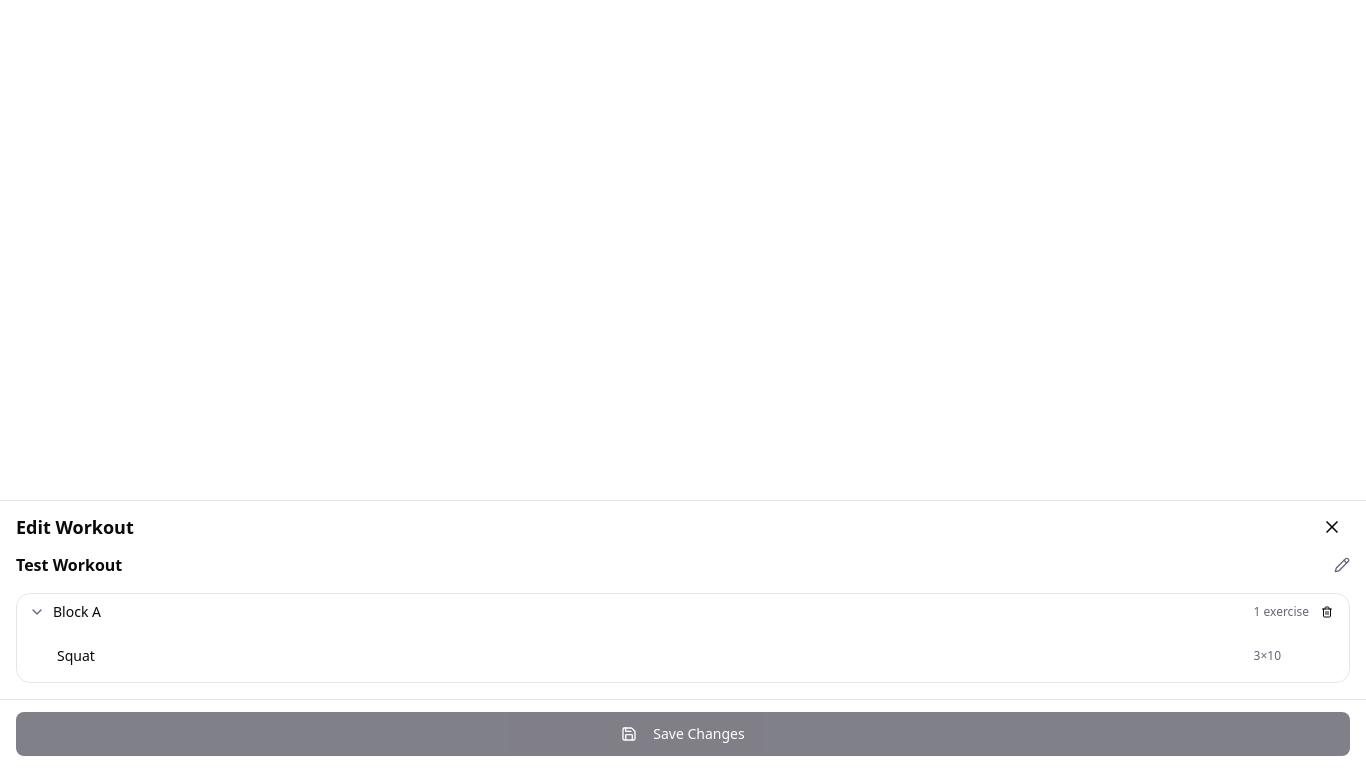
Test: WorkoutEditSheet › shows conflict banner on 409
Step 1. Click the button named "Rename workout" → [1342, 565], box [1334, 557, 1350, 573]
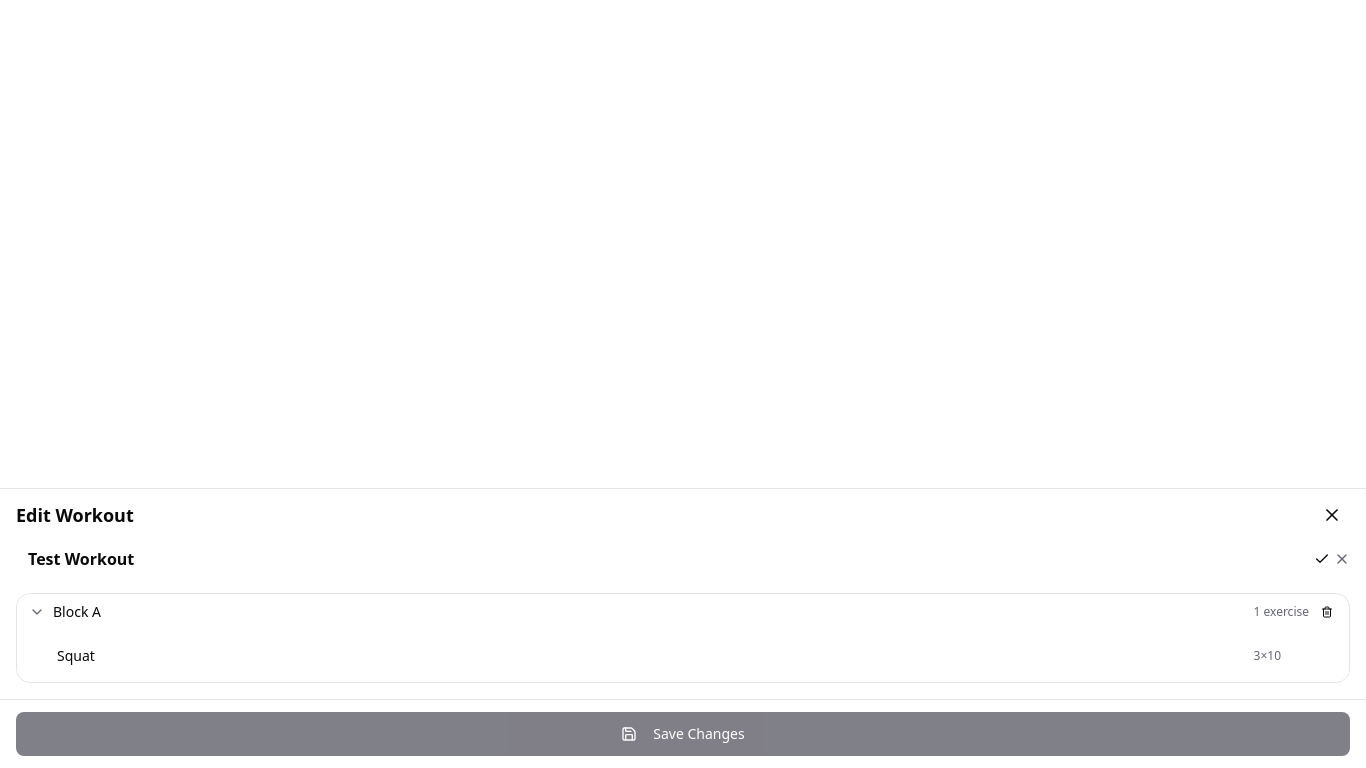
Step 2. Replace the text in the field showing "Test Workout" with "New Name" → [663, 559], box [16, 541, 1310, 577]
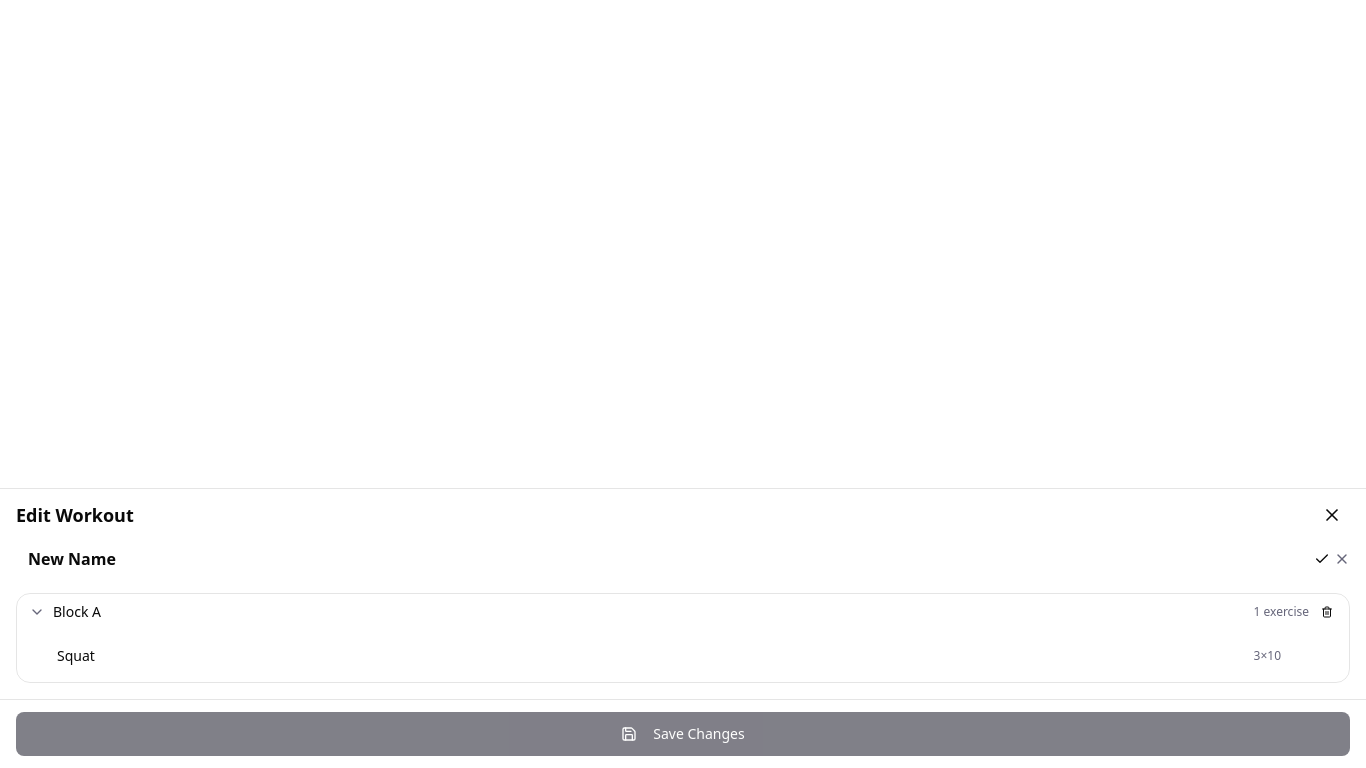
Step 3. Press Enter in the field showing "Test Workout", box [16, 541, 1310, 577]
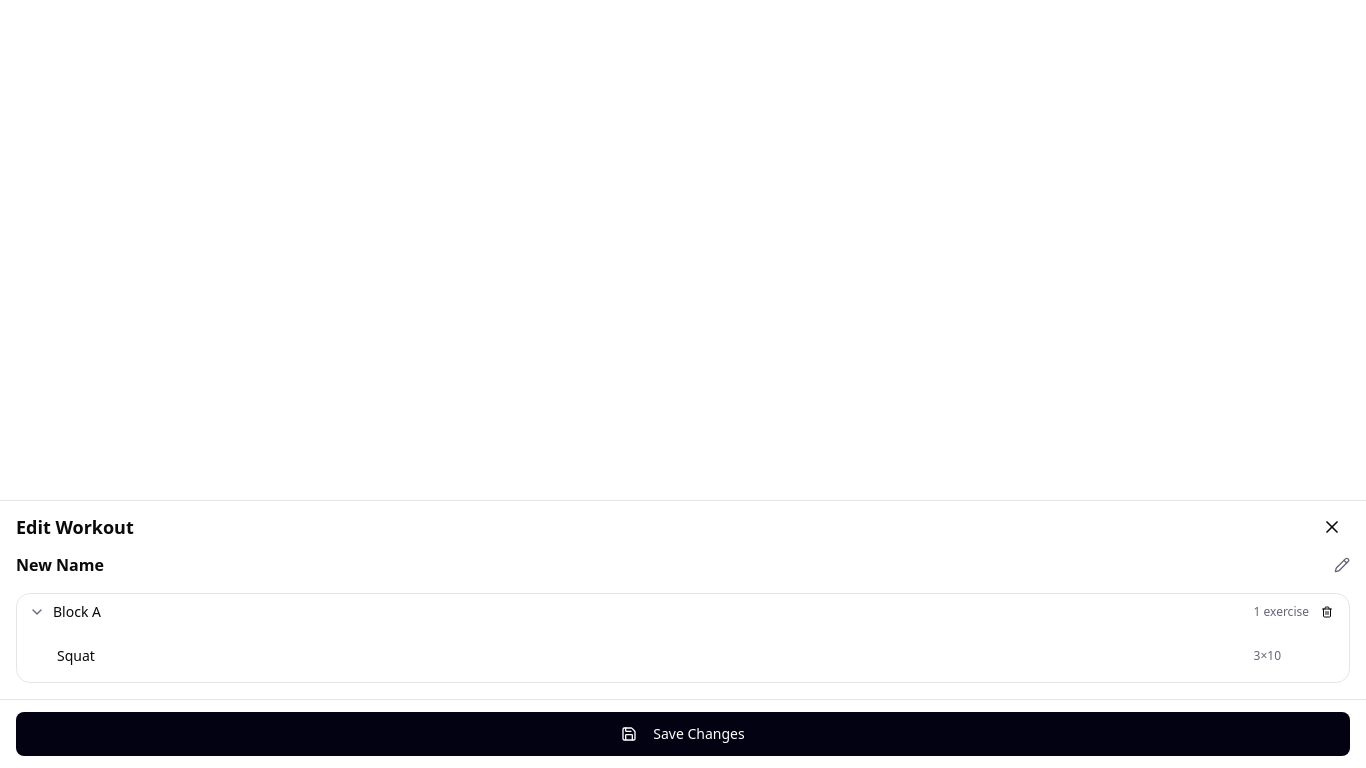
Result: the button "Save Changes" is enabled
Step 4. Click the button "Save Changes" → [683, 734], box [16, 712, 1350, 756]
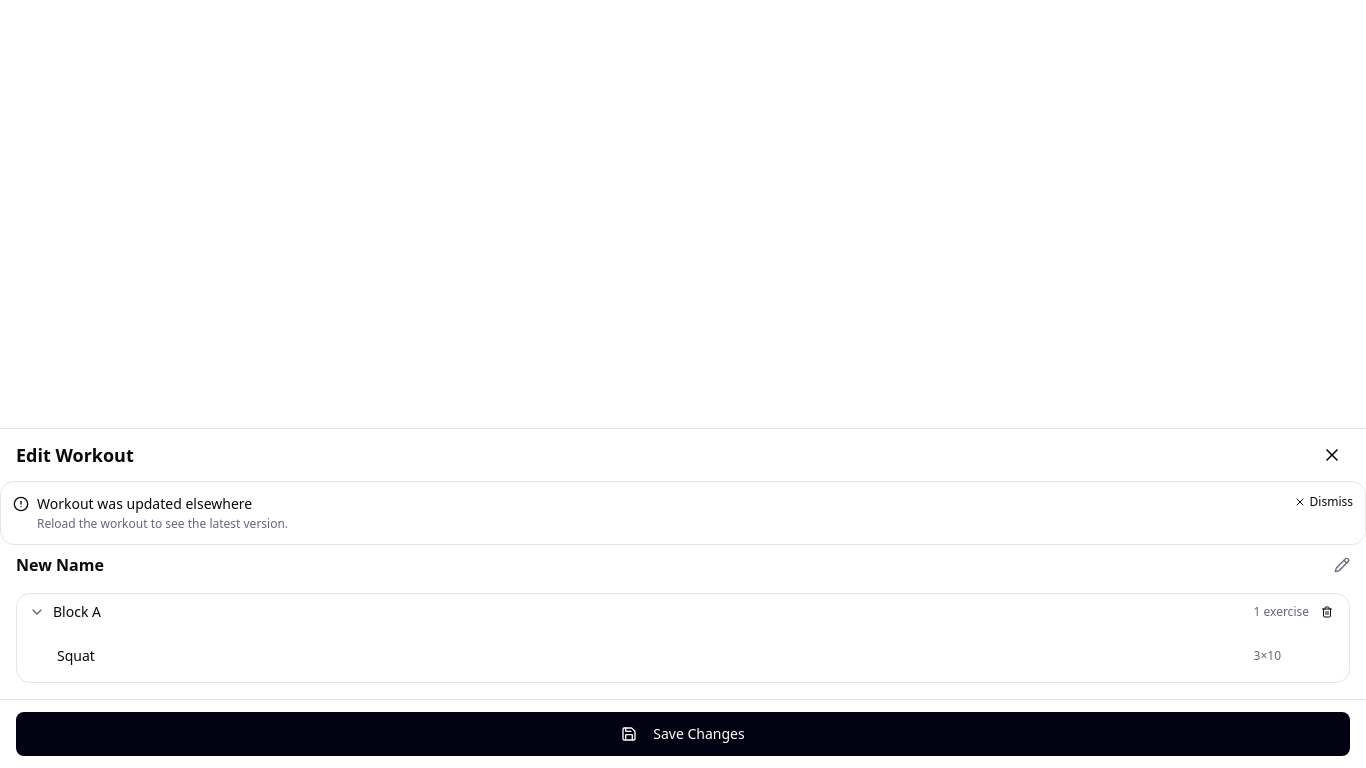
Result: the text "Workout was updated elsewhere" is shown at [37, 494, 252, 513]
